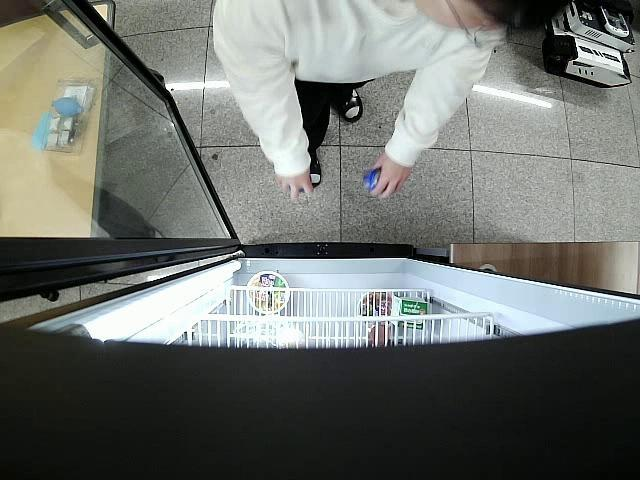13_pocariSweat: (364, 169, 382, 190)
